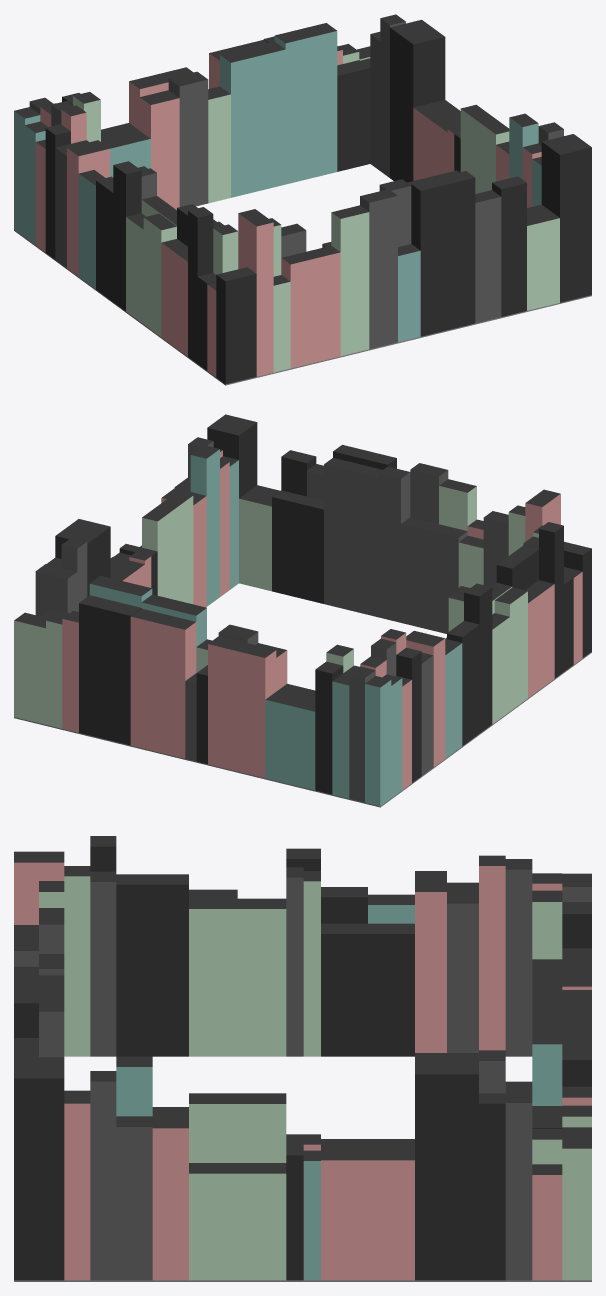
Rendered from ExternalBuildings.FBX.
The picture shows the model from 3 angles, top to bottom: view 1: azimuth 30°, elevation 25°; view 2: azimuth 150°, elevation 25°; view 3: azimuth 270°, elevation 25°; orthographic projection. The views are drawn at different scales.
Visible parts, largest first — view 1: ExternalBuildings; view 2: ExternalBuildings; view 3: ExternalBuildings.
Boxes of the visible parts, x1,y1,x2,y2 form: ExternalBuildings: (14, 14, 591, 385); ExternalBuildings: (14, 414, 591, 807); ExternalBuildings: (14, 836, 591, 1281).
Bounding box in the file's own units: 10000 × 4016 × 10000.
